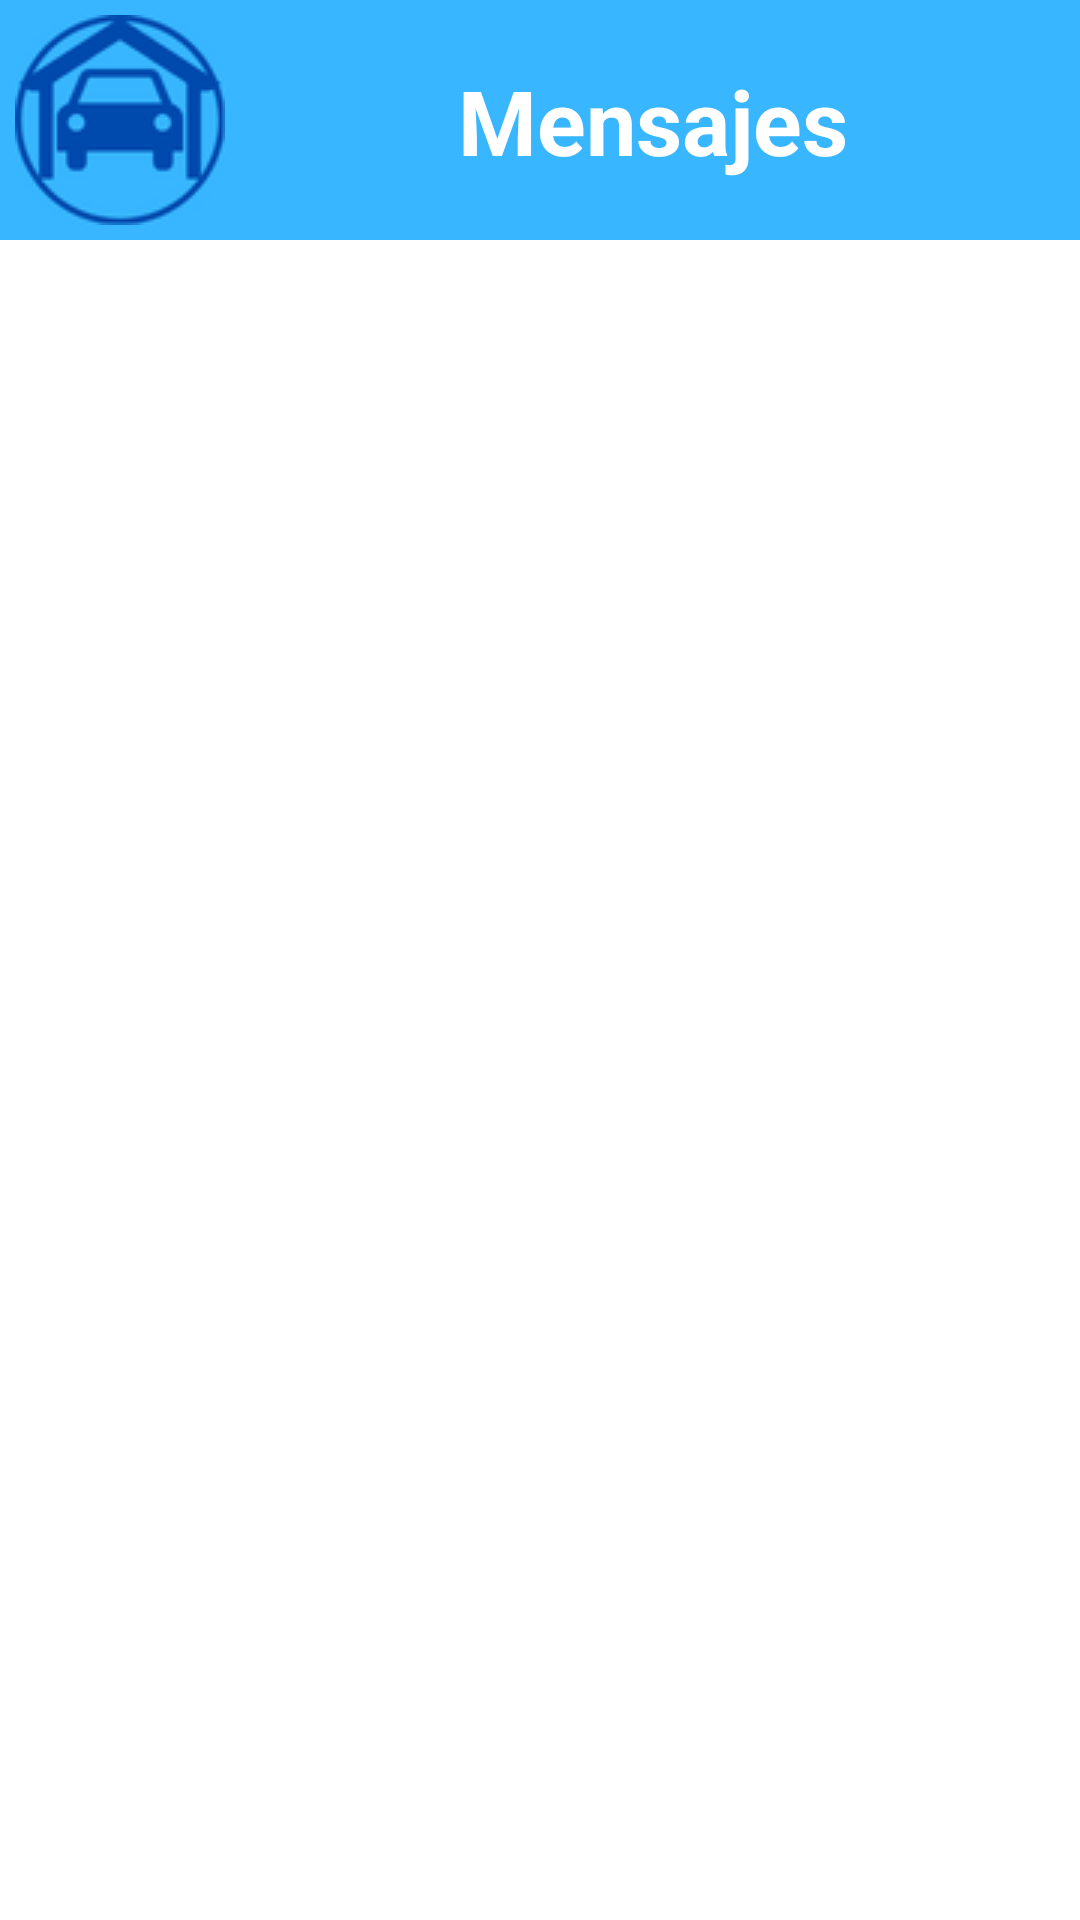

Screen size 1080px x 1920px. Icon name, then its box in pixels as (left=x1, top=y1, right=x2, bottom=y2):
Botón Garaje: (left=15, top=15, right=225, bottom=225)
